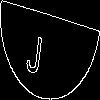J: (25, 25, 45, 76)
